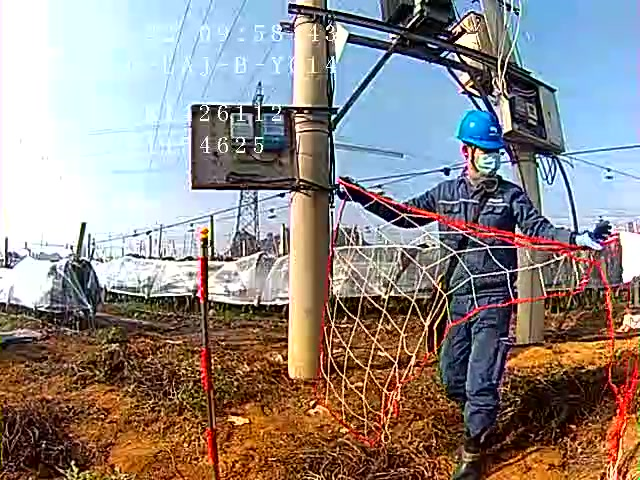downsuit: (443, 269, 514, 425)
halt: (457, 110, 506, 176)
person: (342, 101, 611, 435)
shoe: (453, 424, 491, 480)
upsuit: (355, 159, 582, 291)
wglove: (573, 220, 615, 255)
